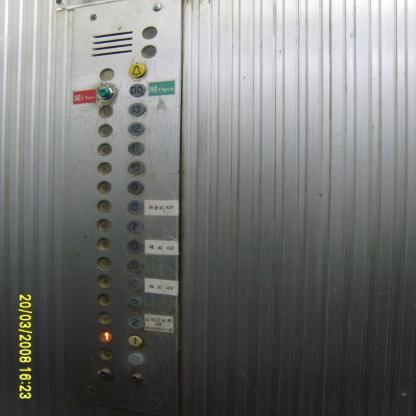1: (97, 329, 113, 343), (127, 334, 143, 347)
10: (126, 161, 144, 175), (97, 162, 112, 175)
11: (126, 141, 144, 155)
12: (127, 122, 145, 135), (96, 124, 112, 138)
13: (128, 103, 146, 117), (98, 105, 113, 119)
2: (126, 316, 144, 329)
3: (126, 297, 143, 311), (96, 293, 112, 306)
4: (127, 277, 143, 293)
5: (126, 258, 143, 272)
6: (127, 239, 143, 254)
7: (126, 220, 144, 233)
8: (126, 200, 143, 214)
9: (126, 181, 143, 194)
DO: (129, 83, 145, 97)
G: (126, 352, 144, 366), (97, 348, 113, 360)
alarm: (127, 63, 145, 78)
blur: (95, 218, 112, 233), (96, 180, 112, 195), (96, 199, 112, 214), (96, 237, 112, 252), (97, 142, 112, 157), (97, 274, 112, 288), (97, 311, 112, 325), (96, 256, 111, 269)
empty: (140, 44, 157, 58), (140, 26, 157, 40), (97, 86, 114, 99), (99, 68, 114, 82)
